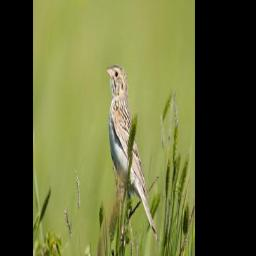Sparrow: (106, 62, 160, 246)
